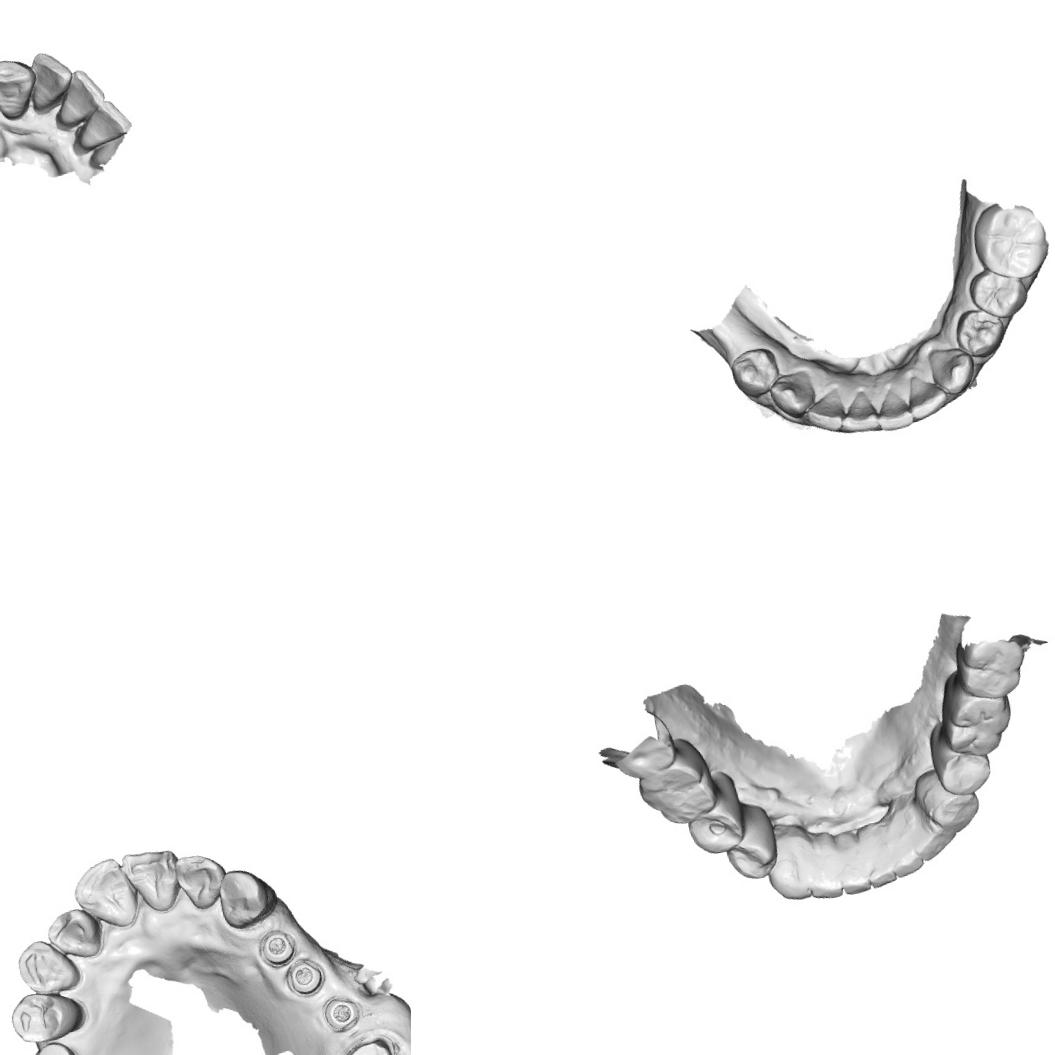canine: (212, 862, 282, 933), (12, 932, 84, 1000), (758, 820, 812, 904), (766, 367, 818, 423), (926, 342, 978, 397), (0, 54, 40, 124), (908, 814, 960, 864)
crown: (326, 1030, 404, 1055)
implant: (254, 924, 300, 970), (284, 954, 326, 998), (321, 992, 362, 1034), (33, 1037, 78, 1055)
incisor: (68, 852, 142, 934), (119, 844, 186, 918), (45, 63, 109, 130), (170, 848, 232, 914), (41, 903, 106, 965), (18, 45, 78, 112), (71, 94, 134, 150), (800, 828, 844, 901), (858, 818, 898, 888), (832, 828, 872, 896), (904, 370, 950, 420), (834, 387, 880, 436), (801, 387, 846, 435), (886, 826, 926, 879), (872, 384, 914, 433)
molar: (629, 732, 720, 830), (931, 661, 1018, 761), (966, 194, 1054, 286), (950, 630, 1032, 704), (611, 727, 680, 784)
premolar: (678, 766, 748, 858), (924, 713, 994, 800), (909, 761, 984, 839), (5, 982, 90, 1048), (716, 798, 782, 883), (965, 262, 1031, 324), (950, 303, 1008, 362), (726, 344, 782, 400)
